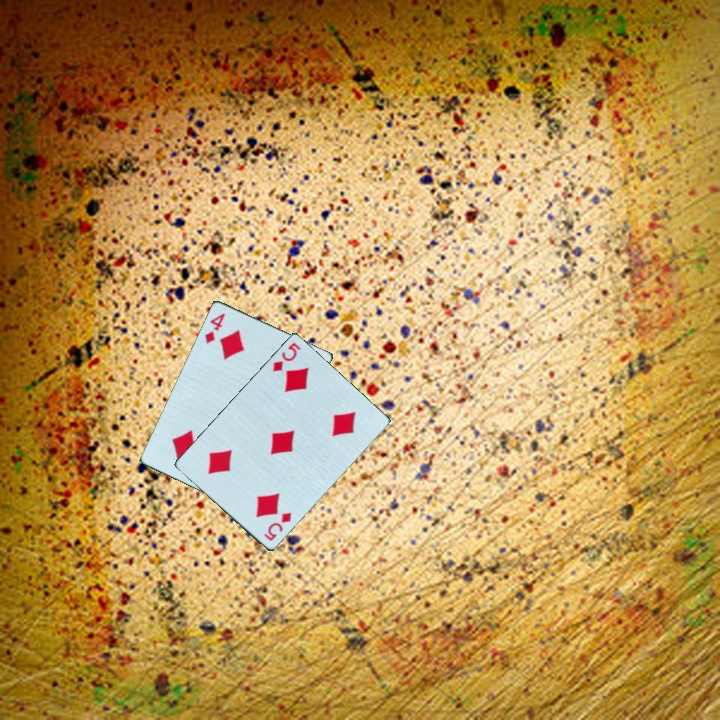4d: (201, 309, 228, 346)
5d: (269, 339, 304, 375), (260, 509, 294, 544)
